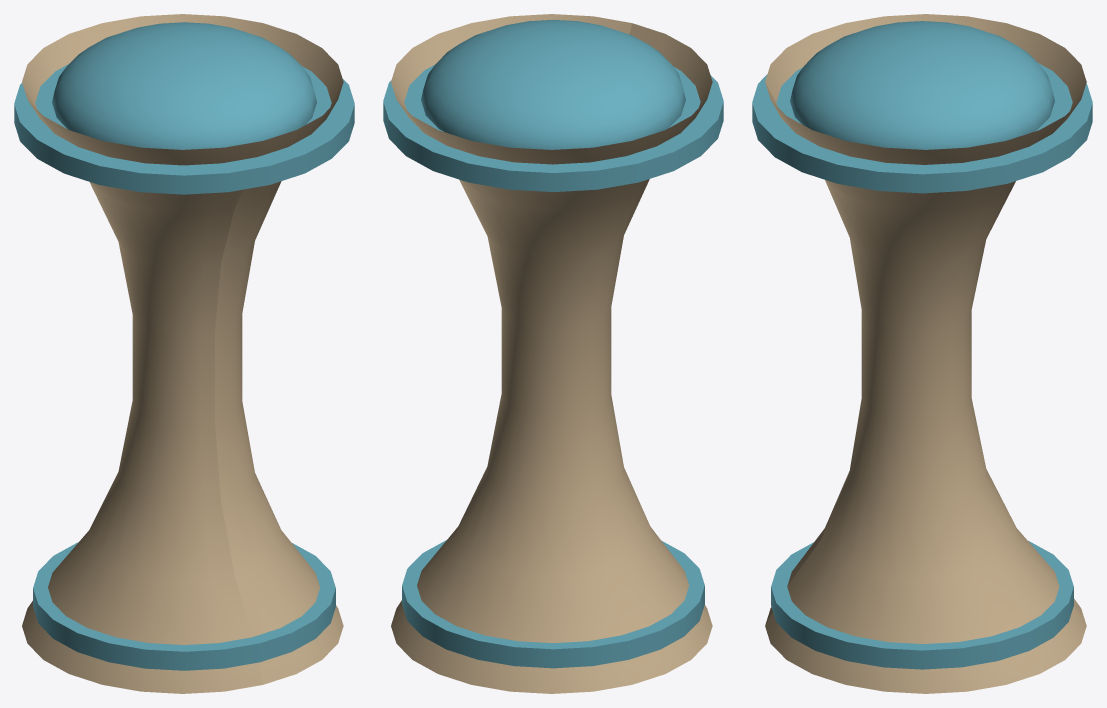
Rendered from right_toe_5_proximal.glb.
The picture shows the model from 3 angles, left to right: view 1: azimuth 30°, elevation 25°; view 2: azimuth 150°, elevation 25°; view 3: azimuth 270°, elevation 25°; orthographic projection.
Visible parts, largest first — view 1: right_toe_5_proximal:diaphysis, right_toe_5_proximal:proximal-envelope, right_toe_5_proximal:proximal-epiphyseal-plate, right_toe_5_proximal:distal-epiphyseal-plate; view 2: right_toe_5_proximal:diaphysis, right_toe_5_proximal:proximal-envelope, right_toe_5_proximal:proximal-epiphyseal-plate, right_toe_5_proximal:distal-epiphyseal-plate; view 3: right_toe_5_proximal:diaphysis, right_toe_5_proximal:proximal-envelope, right_toe_5_proximal:proximal-epiphyseal-plate, right_toe_5_proximal:distal-epiphyseal-plate.
Boxes of the visible parts, bbox=[...] form: right_toe_5_proximal:diaphysis: bbox=[22, 14, 343, 693]; right_toe_5_proximal:proximal-envelope: bbox=[52, 22, 316, 149]; right_toe_5_proximal:proximal-epiphyseal-plate: bbox=[14, 64, 354, 194]; right_toe_5_proximal:distal-epiphyseal-plate: bbox=[33, 542, 335, 670]; right_toe_5_proximal:diaphysis: bbox=[391, 14, 712, 693]; right_toe_5_proximal:proximal-envelope: bbox=[421, 19, 685, 149]; right_toe_5_proximal:proximal-epiphyseal-plate: bbox=[383, 65, 723, 191]; right_toe_5_proximal:distal-epiphyseal-plate: bbox=[402, 540, 704, 668]; right_toe_5_proximal:diaphysis: bbox=[765, 14, 1086, 693]; right_toe_5_proximal:proximal-envelope: bbox=[790, 21, 1054, 149]; right_toe_5_proximal:proximal-epiphyseal-plate: bbox=[752, 63, 1092, 193]; right_toe_5_proximal:distal-epiphyseal-plate: bbox=[771, 541, 1073, 669].
Size of the model in its own units: 0.0225 by 0.045 by 0.0225.
